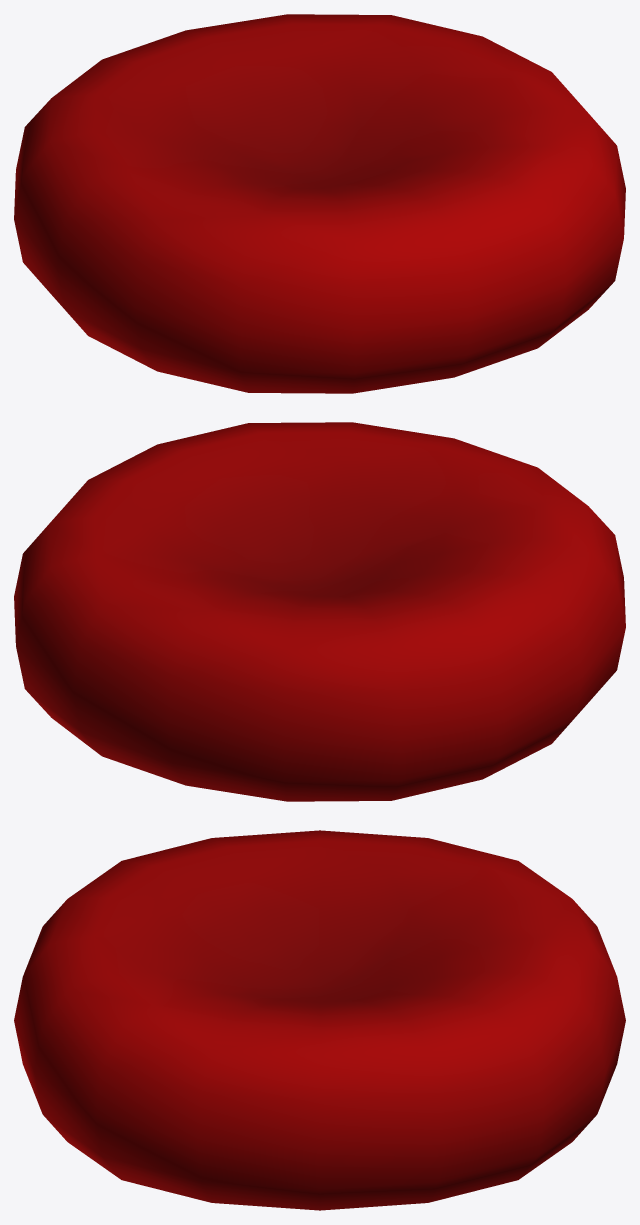
The model's file is animals-animalparts-redbloodcell_v1.glb.
3 renders of one model, top to bottom at view 1: azimuth 30°, elevation 25°; view 2: azimuth 150°, elevation 25°; view 3: azimuth 270°, elevation 25°, orthographic.
Parts seen in each view (by area): view 1: RedBloodCell.001; view 2: RedBloodCell.001; view 3: RedBloodCell.001.
Part boxes in pixels (box(x1,y1,x2,y2)): RedBloodCell.001: box(14, 14, 625, 393); RedBloodCell.001: box(14, 422, 625, 801); RedBloodCell.001: box(14, 830, 625, 1210).
Size of the model in its own units: 1.86 by 0.5679 by 1.86.
